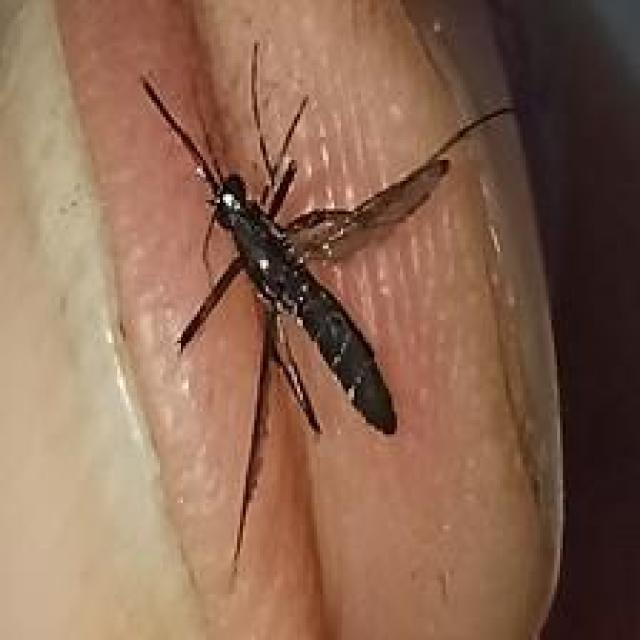Aedes albopictus: (137, 38, 517, 576)
